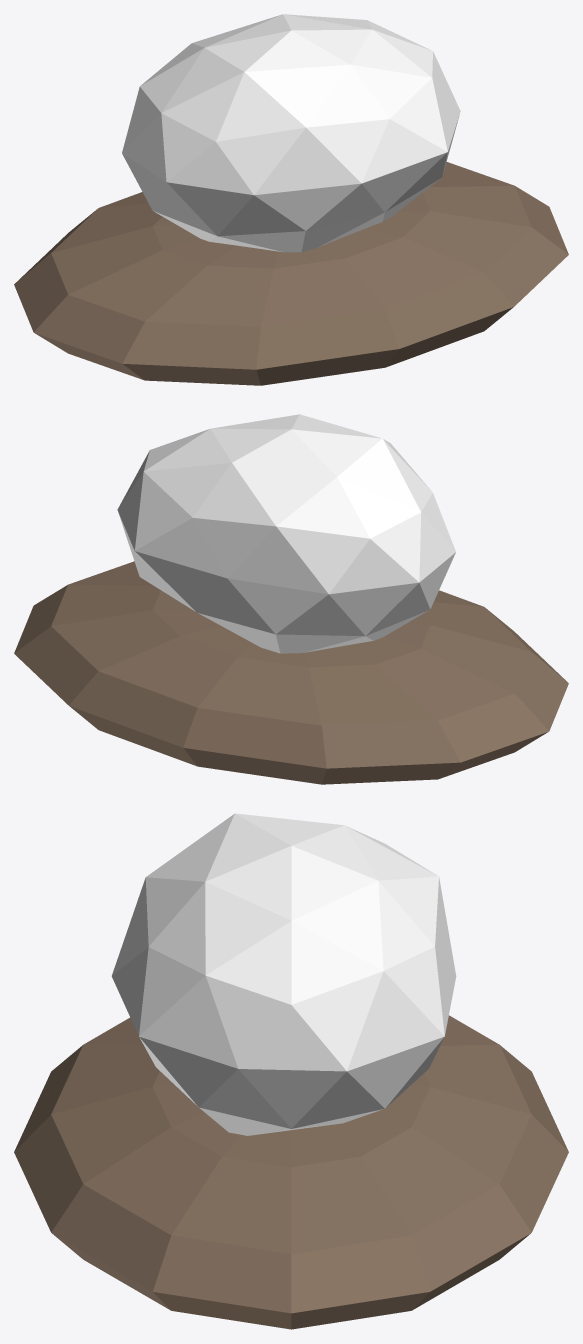
Rendered from hedge.glb.
3 renders of one model, top to bottom at view 1: azimuth 30°, elevation 25°; view 2: azimuth 150°, elevation 25°; view 3: azimuth 270°, elevation 25°, orthographic. The views are drawn at different scales.
Parts seen in each view (by area): view 1: SoilMound, HedgeBlob; view 2: SoilMound, HedgeBlob; view 3: SoilMound, HedgeBlob.
Boxes of the visible parts, x1=… form: SoilMound: x1=14, y1=162, x2=568, y2=385; HedgeBlob: x1=122, y1=14, x2=460, y2=252; SoilMound: x1=14, y1=561, x2=568, y2=784; HedgeBlob: x1=117, y1=414, x2=455, y2=653; SoilMound: x1=14, y1=1015, x2=568, y2=1329; HedgeBlob: x1=111, y1=813, x2=456, y2=1135.
Bounding box in the file's own units: 1.1 × 0.6074 × 0.8.
